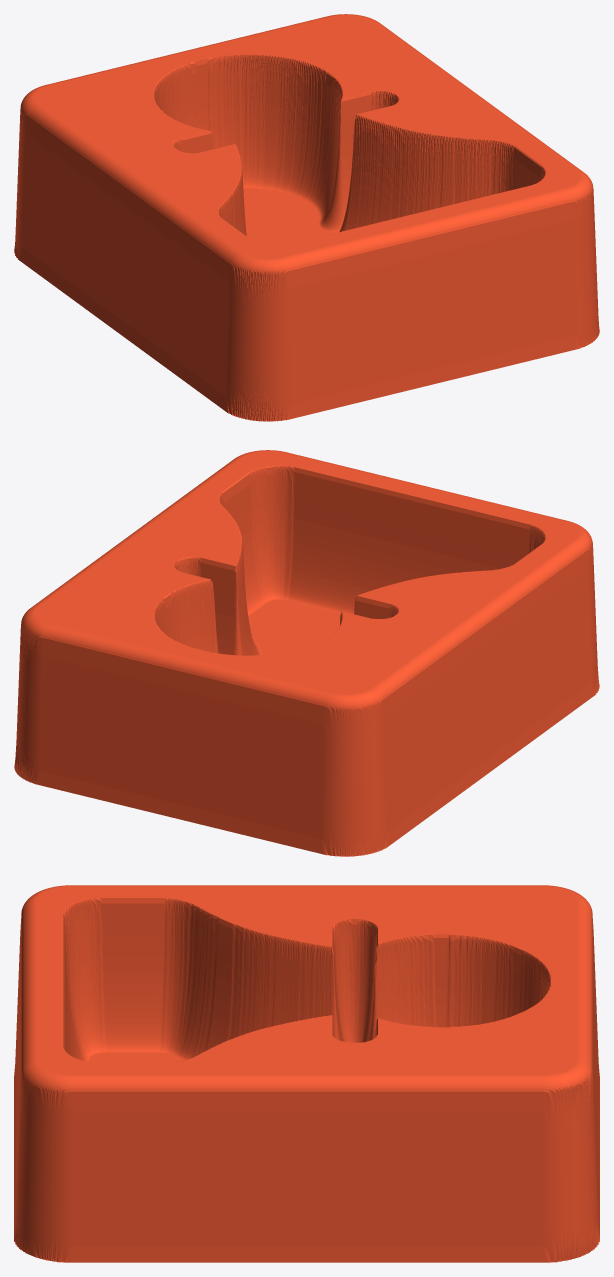
File: mold.glb
3 views of the same model, one above another, from view 1: azimuth 30°, elevation 25°; view 2: azimuth 150°, elevation 25°; view 3: azimuth 270°, elevation 25° (orthographic). The views are drawn at different scales.
Parts seen in each view (by area): view 1: geometry_0; view 2: geometry_0; view 3: geometry_0.
Part boxes in pixels (box(x1,y1,x2,y2)): geometry_0: box(14, 14, 599, 421); geometry_0: box(14, 450, 599, 856); geometry_0: box(14, 885, 599, 1262).
Bounding box in the file's own units: 0.0774 × 0.031 × 0.0924.
